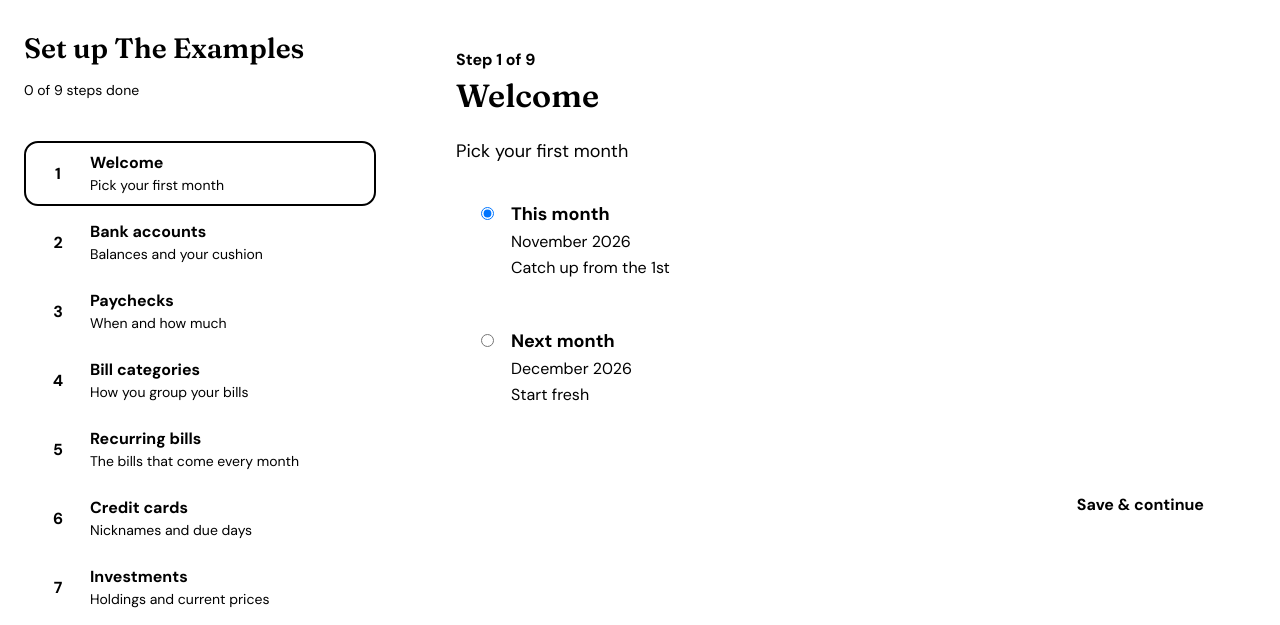
P1-08 setup wizard › save & continue saves the step as done and moves to the next one
This screenshot has width=1280, height=625.
Expected: the text "Step 1 of 9" is shown, [456,49,536,70]
What coordinates should you click on to do the following:
click the button "Save & continue"
I would click on:
 (1140, 505)
Its box is [1057,481,1224,529].
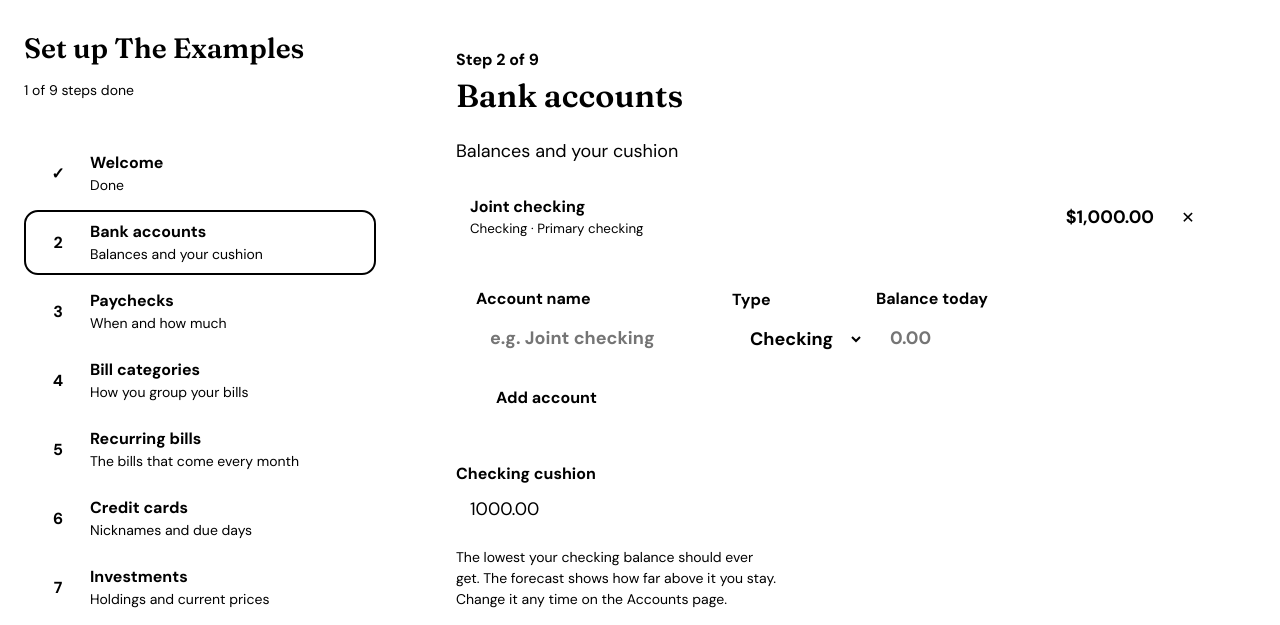
Expected: the text "Step 2 of 9" is shown, [456,49,539,70]
Expected: the button "✓ Welcome Done" is shown, [24,141,376,206]
